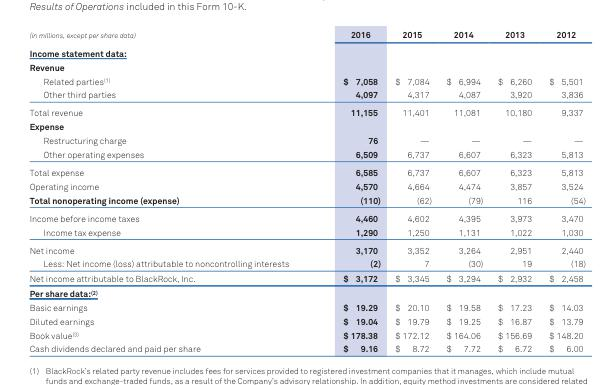table: (28, 28, 585, 354)
table column: (28, 28, 315, 354), (315, 28, 387, 354), (387, 28, 438, 354), (438, 28, 489, 354), (489, 28, 539, 354), (539, 28, 585, 354)
table column header: (28, 28, 585, 43)
table projected row header: (28, 43, 585, 59), (28, 59, 585, 73), (28, 119, 585, 133), (28, 285, 585, 299)
table row: (28, 43, 585, 59), (28, 87, 585, 103), (28, 103, 585, 119), (28, 162, 585, 178), (28, 192, 585, 208), (28, 208, 585, 224), (28, 224, 585, 240), (28, 240, 585, 256), (28, 28, 585, 43), (28, 147, 585, 162), (28, 270, 585, 285), (28, 59, 585, 73), (28, 73, 585, 87), (28, 119, 585, 133), (28, 133, 585, 147), (28, 178, 585, 192), (28, 256, 585, 270), (28, 285, 585, 299), (28, 299, 585, 313), (28, 313, 585, 327), (28, 327, 585, 341), (28, 341, 585, 354)
